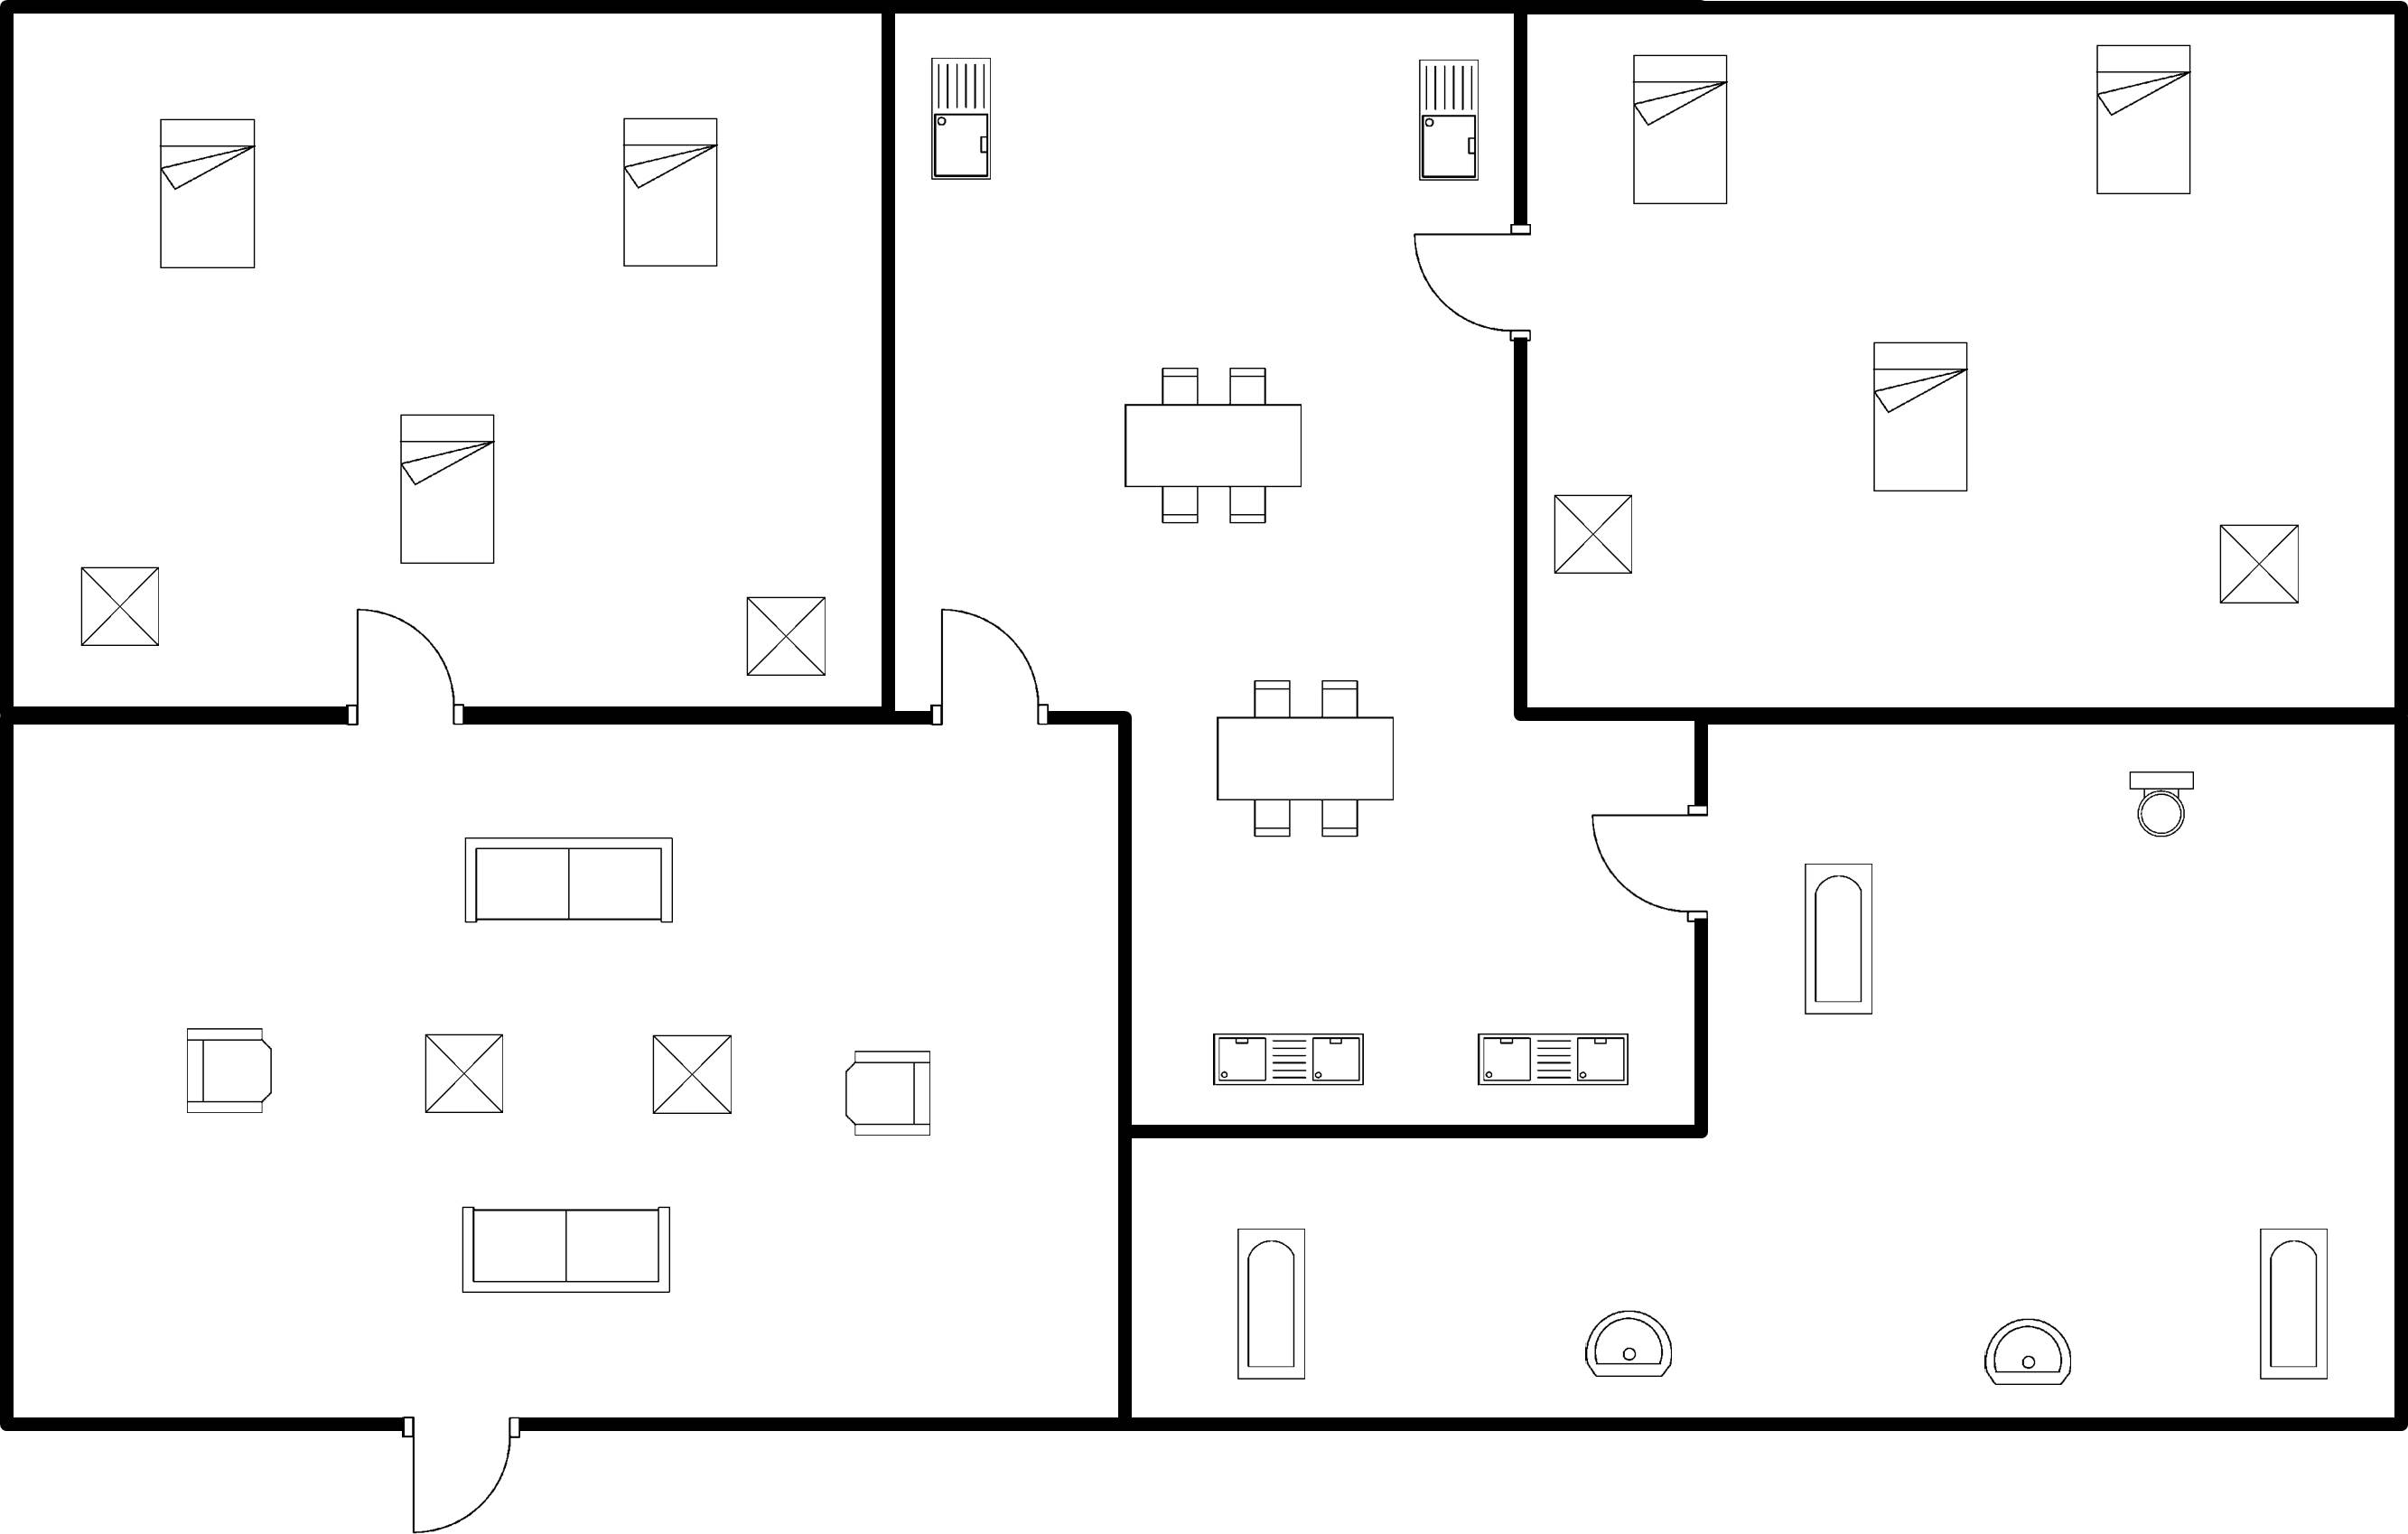armchair: (826, 1038, 952, 1146), (176, 1012, 284, 1129)
bed: (608, 107, 737, 281), (1855, 329, 1979, 504), (144, 108, 266, 285), (2084, 32, 2206, 208), (1621, 42, 1742, 214), (391, 400, 503, 577)
coffee_table: (639, 1023, 745, 1129), (413, 1019, 516, 1128), (2205, 512, 2310, 615), (735, 585, 835, 693), (69, 557, 172, 659), (1540, 483, 1644, 583)
dining_table: (1114, 347, 1320, 538), (1196, 669, 1408, 848)
large_sink: (2115, 760, 2203, 845)
large_sofa: (449, 1190, 683, 1310), (453, 827, 687, 937)
sink: (921, 47, 1008, 202), (1408, 45, 1490, 189)
small_sink: (1569, 1300, 1685, 1396), (1969, 1305, 2086, 1394)
tub: (1221, 1217, 1323, 1396), (1788, 850, 1886, 1029), (2242, 1219, 2342, 1390)
twin_sink: (1199, 1017, 1377, 1100), (1463, 1024, 1642, 1098)
